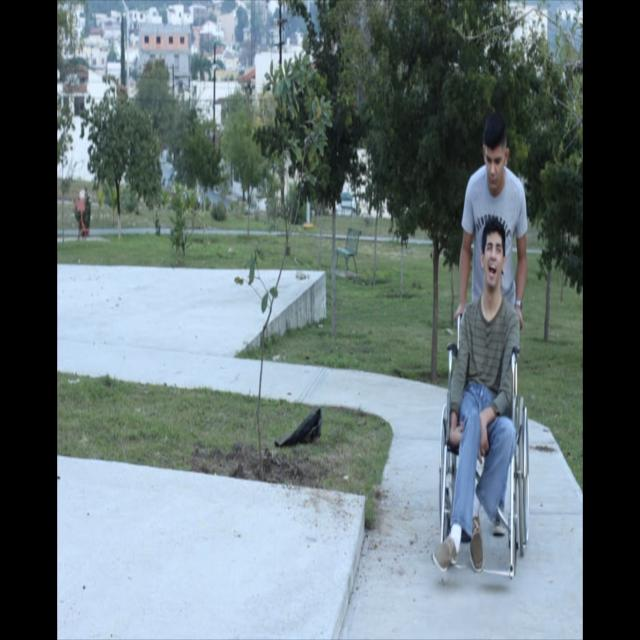wheelchairs: (439, 311, 530, 580)
